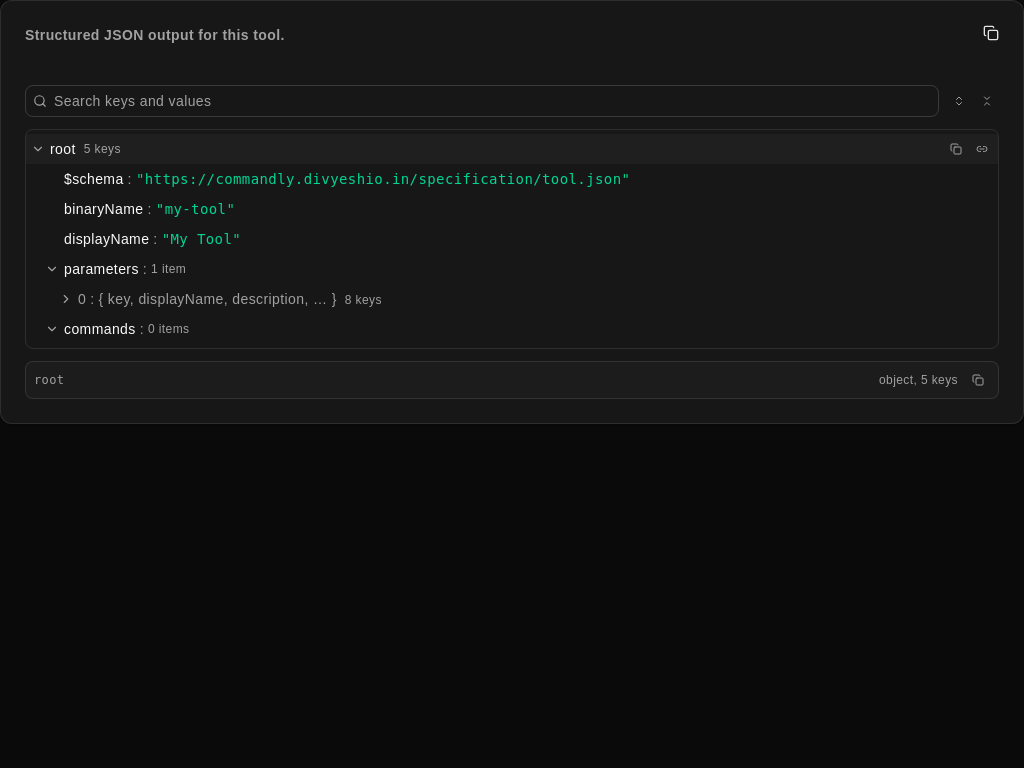
Test: JsonOutput › expands a branch when its row is clicked
Click the list item with aria-label "0, object" at point(220, 299), box [59,291,382,307]
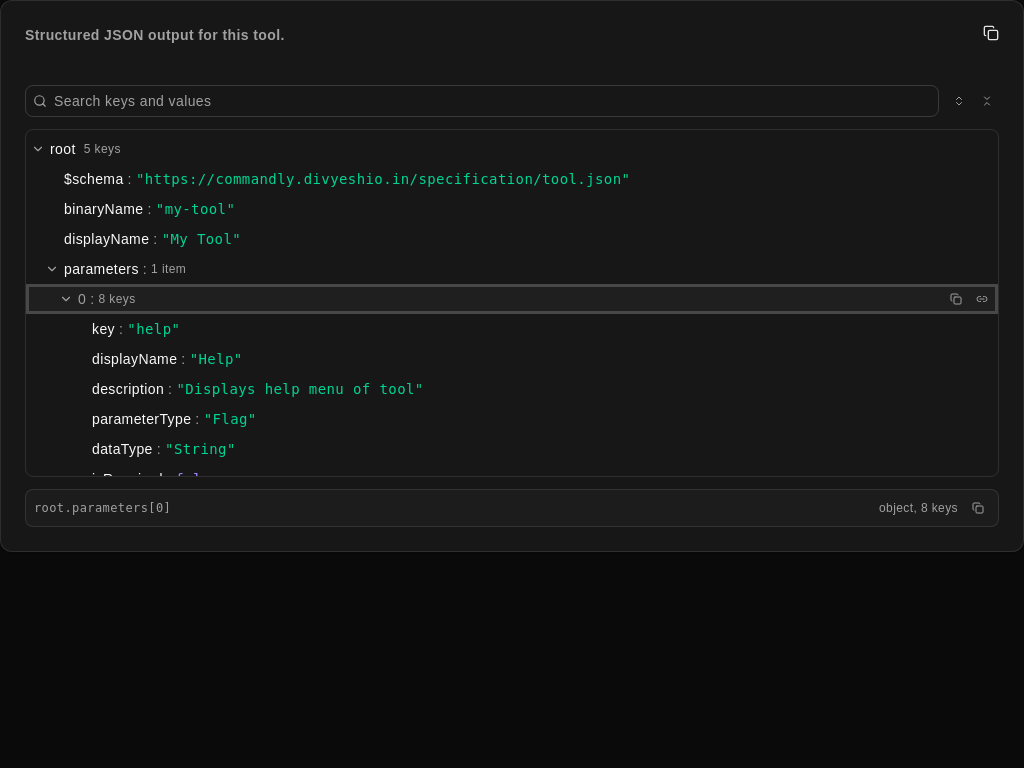
Expected: the list item with aria-label "key: help" is shown, [92,321,180,337]
